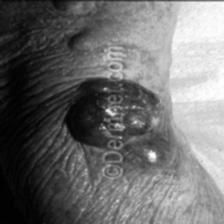Potentially Malignant Skin Tumors: (66, 78, 162, 148), (124, 136, 174, 174)
